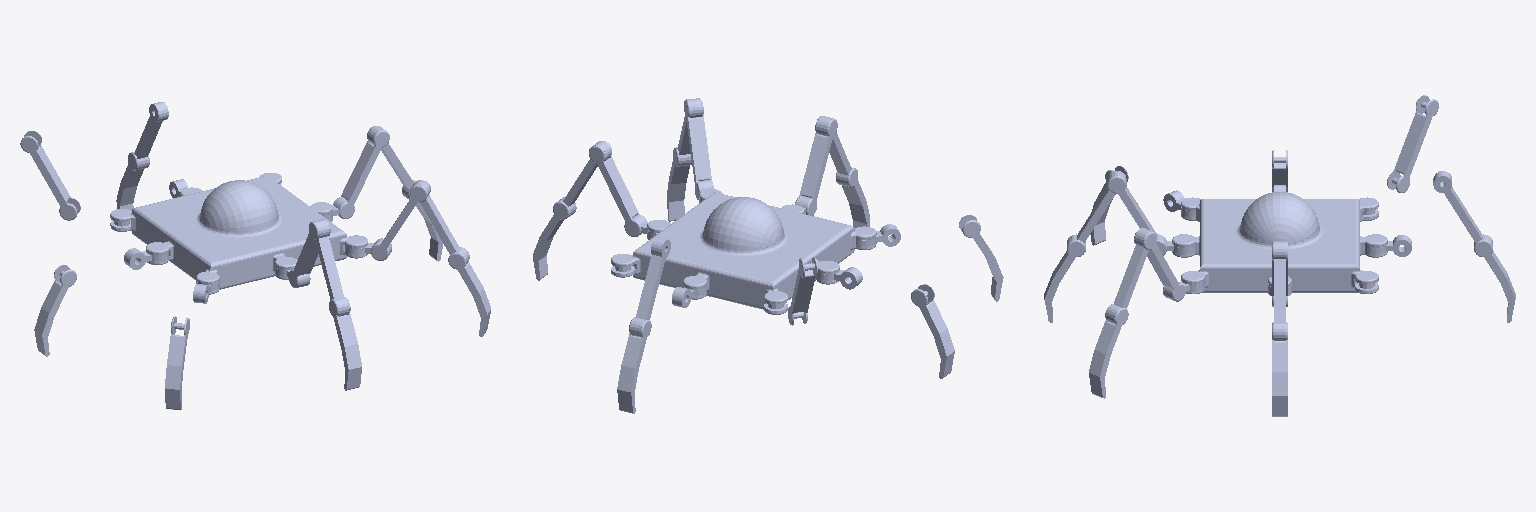
--- What the picture shows (computed from the rendered views, not written in the file) ---
The picture shows the robot from 3 angles, left to right: view 1: azimuth 30°, elevation 25°; view 2: azimuth 150°, elevation 25°; view 3: azimuth 270°, elevation 25°; orthographic projection.
Model SpiderBot_8Legs with 33 links and 32 joints (32 revolute), rooted at body, posed all joints at 0.
Visible links, largest first — view 1: body, link_L5_J2, link_L3_J4, link_L4_J4, link_L2_J4, link_L8_J2, link_L2_J3, link_L1_J4, link_L6_J3, link_L1_J2, link_L1_J3, link_L2_J2 (+2 smaller); view 2: body, link_L4_J4, link_L6_J4, link_L8_J2, link_L2_J2, link_L6_J3, link_L1_J2, link_L5_J2, link_L1_J4, link_L8_J4, link_L3_J4, link_L2_J4 (+5 smaller); view 3: body, link_L5_J2, link_L1_J4, link_L8_J4, link_L1_J3, link_L8_J3, link_L1_J2, link_L6_J3, link_L2_J4, link_L6_J4, link_L2_J2, link_L2_J3 (+2 smaller).
Link boxes in pixels (bbox=[...]): body: bbox=[110, 173, 367, 294]; link_L5_J2: bbox=[20, 131, 80, 220]; link_L3_J4: bbox=[165, 316, 189, 409]; link_L4_J4: bbox=[34, 265, 76, 356]; link_L2_J4: bbox=[329, 297, 361, 390]; link_L8_J2: bbox=[333, 126, 389, 218]; link_L2_J3: bbox=[313, 219, 348, 316]; link_L1_J4: bbox=[448, 247, 490, 336]; link_L6_J3: bbox=[133, 102, 168, 169]; link_L1_J2: bbox=[371, 180, 430, 260]; link_L1_J3: bbox=[411, 180, 469, 263]; link_L2_J2: bbox=[289, 219, 330, 287]; body: bbox=[611, 189, 876, 314]; link_L4_J4: bbox=[911, 284, 954, 378]; link_L6_J4: bbox=[617, 317, 651, 413]; link_L8_J2: bbox=[589, 141, 647, 236]; link_L2_J2: bbox=[795, 116, 837, 215]; link_L6_J3: bbox=[630, 237, 670, 337]; link_L1_J2: bbox=[684, 98, 713, 199]; link_L5_J2: bbox=[788, 257, 817, 325]; link_L1_J4: bbox=[667, 148, 691, 221]; link_L8_J4: bbox=[533, 202, 576, 280]; link_L3_J4: bbox=[959, 215, 1003, 301]; link_L2_J4: bbox=[836, 168, 869, 227]; body: bbox=[1172, 192, 1387, 295]; link_L5_J2: bbox=[1387, 95, 1438, 192]; link_L1_J4: bbox=[1089, 304, 1128, 398]; link_L8_J4: bbox=[1272, 322, 1287, 416]; link_L1_J3: bbox=[1106, 228, 1152, 323]; link_L8_J3: bbox=[1274, 241, 1285, 340]; link_L1_J2: bbox=[1134, 228, 1185, 301]; link_L6_J3: bbox=[1433, 171, 1492, 245]; link_L2_J4: bbox=[1044, 234, 1085, 322]; link_L6_J4: bbox=[1474, 234, 1515, 322]; link_L2_J2: bbox=[1108, 171, 1166, 255]; link_L2_J3: bbox=[1067, 171, 1126, 245].
Size in the robot's own frame: 0.5897 by 0.5897 by 0.2139 metres.
Meshes: 33 distinct files referenced, 21 mesh visuals loaded (21 binary STL); not drawn: 12 (reference not matched to a file when rendering).

URDF robot description (SpiderBot_8Legs):
<?xml version="1.0" encoding="utf-8"?>

<robot
  name="SpiderBot_8Legs">
  <link
    name="body">
    <inertial>
      <origin
        xyz="-1.6455E-06 -2.7132E-06 0.13522"
        rpy="0 0 0" />
      <mass
        value="1.9509" />
      <inertia
        ixx="0.0068935"
        ixy="-1.5477E-07"
        ixz="-1.6748E-08"
        iyy="0.0068934"
        iyz="-2.768E-08"
        izz="0.012599" />
    </inertial>
    <visual>
      <origin
        xyz="0 0 0"
        rpy="0 0 0" />
      <geometry>
        <mesh
          filename="package://SpiderBot_8Legs/meshes/body.STL" />
      </geometry>
      <material
        name="">
        <color
          rgba="0.79216 0.81961 0.93333 1" />
      </material>
    </visual>
    <collision>
      <origin
        xyz="0 0 0"
        rpy="0 0 0" />
      <geometry>
        <mesh
          filename="package://SpiderBot_8Legs/meshes/body.STL" />
      </geometry>
    </collision>
  </link>
  <link
    name="link_L1_J1">
    <inertial>
      <origin
        xyz="0.0208533170560279 5.55111512312578E-17 -0.0120000000000001"
        rpy="0 0 0" />
      <mass
        value="0.00957341037321664" />
      <inertia
        ixx="6.35237498388445E-07"
        ixy="1.48230765769503E-21"
        ixz="1.62191206973846E-20"
        iyy="2.95388816018321E-06"
        iyz="-8.55691343721213E-22"
        izz="3.07273769122766E-06" />
    </inertial>
    <visual>
      <origin
        xyz="0 0 0"
        rpy="0 0 0" />
      <geometry>
        <mesh
          filename="package://SpiderBot_8Legs/meshes/link_L1_J1.STL" />
      </geometry>
      <material
        name="">
        <color
          rgba="0.792156862745098 0.819607843137255 0.933333333333333 1" />
      </material>
    </visual>
    <collision>
      <origin
        xyz="0 0 0"
        rpy="0 0 0" />
      <geometry>
        <mesh
          filename="package://SpiderBot_8Legs/meshes/link_L1_J1.STL" />
      </geometry>
    </collision>
  </link>
  <joint
    name="L1_J1"
    type="revolute">
    <origin
      xyz="0.108832033144844 -0.108832033144843 0.118000000000001"
      rpy="3.14159265358978 0 -0.785398163397437" />
    <parent
      link="body" />
    <child
      link="link_L1_J1" />
    <axis
      xyz="0 0 1" />
    <limit
      lower="0"
      upper="0"
      effort="0"
      velocity="0" />
  </joint>
  <link
    name="link_L1_J2">
    <inertial>
      <origin
        xyz="1.2490009027033E-16 -9.71445146547012E-17 0.0509087121146357"
        rpy="0 0 0" />
      <mass
        value="0.0214270498659543" />
      <inertia
        ixx="2.34021439622059E-05"
        ixy="1.6940658945086E-21"
        ixz="-6.64126770206575E-20"
        iyy="2.39989247736348E-05"
        iyz="5.4924792673521E-20"
        izz="1.16162974067388E-06" />
    </inertial>
    <visual>
      <origin
        xyz="0 0 0"
        rpy="0 0 0" />
      <geometry>
        <mesh
          filename="package://SpiderBot_8Legs/meshes/link_L1_J2.STL" />
      </geometry>
      <material
        name="">
        <color
          rgba="0.792156862745098 0.819607843137255 0.933333333333333 1" />
      </material>
    </visual>
    <collision>
      <origin
        xyz="0 0 0"
        rpy="0 0 0" />
      <geometry>
        <mesh
          filename="package://SpiderBot_8Legs/meshes/link_L1_J2.STL" />
      </geometry>
    </collision>
  </link>
  <joint
    name="L1_J2"
    type="revolute">
    <origin
      xyz="0.0329903810567685 0 -0.0119999999999972"
      rpy="-2.6179938779915 0 -1.5707963267949" />
    <parent
      link="link_L1_J1" />
    <child
      link="link_L1_J2" />
    <axis
      xyz="1 0 0" />
    <limit
      lower="0"
      upper="0"
      effort="0"
      velocity="0" />
  </joint>
  <link
    name="link_L1_J3">
    <inertial>
      <origin
        xyz="-0.0509087121146357 5.55111512312578E-17 -1.80411241501588E-16"
        rpy="0 0 0" />
      <mass
        value="0.0238433927437446" />
      <inertia
        ixx="1.0284985609508E-06"
        ixy="3.67400540871553E-20"
        ixz="-4.2960452293554E-20"
        iyy="3.82502554199004E-05"
        iyz="3.3881317890172E-21"
        izz="3.83846267529608E-05" />
    </inertial>
    <visual>
      <origin
        xyz="0 0 0"
        rpy="0 0 0" />
      <geometry>
        <mesh
          filename="package://SpiderBot_8Legs/meshes/link_L1_J3.STL" />
      </geometry>
      <material
        name="">
        <color
          rgba="0.792156862745098 0.819607843137255 0.933333333333333 1" />
      </material>
    </visual>
    <collision>
      <origin
        xyz="0 0 0"
        rpy="0 0 0" />
      <geometry>
        <mesh
          filename="package://SpiderBot_8Legs/meshes/link_L1_J3.STL" />
      </geometry>
    </collision>
  </link>
  <joint
    name="L1_J3"
    type="revolute">
    <origin
      xyz="0 0 0.101817424229271"
      rpy="1.5707963267949 -0.523598775598305 1.57079632679489" />
    <parent
      link="link_L1_J2" />
    <child
      link="link_L1_J3" />
    <axis
      xyz="0 0 1" />
    <limit
      lower="0"
      upper="0"
      effort="0"
      velocity="0" />
  </joint>
  <link
    name="link_L1_J4">
    <inertial>
      <origin
        xyz="-2.43606107508398E-10 -0.00336940912784062 -0.0483315670397481"
        rpy="0 0 0" />
      <mass
        value="0.0205677845340441" />
      <inertia
        ixx="2.06704743841636E-05"
        ixy="2.0589781913943E-14"
        ixz="1.55720656087906E-13"
        iyy="2.05646985832854E-05"
        iyz="-2.80021798240062E-06"
        izz="1.64193171564564E-06" />
    </inertial>
    <visual>
      <origin
        xyz="0 0 0"
        rpy="0 0 0" />
      <geometry>
        <mesh
          filename="package://SpiderBot_8Legs/meshes/link_L1_J4.STL" />
      </geometry>
      <material
        name="">
        <color
          rgba="0.792156862745098 0.819607843137255 0.933333333333333 1" />
      </material>
    </visual>
    <collision>
      <origin
        xyz="0 0 0"
        rpy="0 0 0" />
      <geometry>
        <mesh
          filename="package://SpiderBot_8Legs/meshes/link_L1_J4.STL" />
      </geometry>
    </collision>
  </link>
  <joint
    name="L1_J4"
    type="revolute">
    <origin
      xyz="-0.101817424229271 0 0"
      rpy="0 1.57079630572147 0" />
    <parent
      link="link_L1_J3" />
    <child
      link="link_L1_J4" />
    <axis
      xyz="1 0 0" />
    <limit
      lower="0"
      upper="0"
      effort="0"
      velocity="0" />
  </joint>
  <link
    name="link_L2_J1">
    <inertial>
      <origin
        xyz="0.0208533170560278 1.39608917830608E-15 -0.0120000000000003"
        rpy="0 0 0" />
      <mass
        value="0.00957341037321663" />
      <inertia
        ixx="6.35237498388445E-07"
        ixy="8.77009254019188E-20"
        ixz="1.82209679161877E-20"
        iyy="2.95388816018321E-06"
        iyz="8.18836950869645E-22"
        izz="3.07273769122765E-06" />
    </inertial>
    <visual>
      <origin
        xyz="0 0 0"
        rpy="0 0 0" />
      <geometry>
        <mesh
          filename="package://SpiderBot_8Legs/meshes/link_L2_J1.STL" />
      </geometry>
      <material
        name="">
        <color
          rgba="0.792156862745098 0.819607843137255 0.933333333333333 1" />
      </material>
    </visual>
    <collision>
      <origin
        xyz="0 0 0"
        rpy="0 0 0" />
      <geometry>
        <mesh
          filename="package://SpiderBot_8Legs/meshes/link_L2_J1.STL" />
      </geometry>
    </collision>
  </link>
  <joint
    name="L2_J1"
    type="revolute">
    <origin
      xyz="0 -0.119999999999998 0.118000000000001"
      rpy="-3.14159265358979 0 -1.5707963267949" />
    <parent
      link="body" />
    <child
      link="link_L2_J1" />
    <axis
      xyz="0 0 1" />
    <limit
      lower="0"
      upper="0"
      effort="0"
      velocity="0" />
  </joint>
  <link
    name="link_L2_J2">
    <inertial>
      <origin
        xyz="1.85556077463149E-16 1.52655665885959E-16 0.0509087121146356"
        rpy="0 0 0" />
      <mass
        value="0.0214270498659543" />
      <inertia
        ixx="2.34021439622059E-05"
        ixy="-1.90905415296481E-20"
        ixz="-4.90617417578581E-19"
        iyy="2.39989247736348E-05"
        iyz="-3.03343674235446E-20"
        izz="1.16162974067388E-06" />
    </inertial>
    <visual>
      <origin
        xyz="0 0 0"
        rpy="0 0 0" />
      <geometry>
        <mesh
          filename="package://SpiderBot_8Legs/meshes/link_L2_J2.STL" />
      </geometry>
      <material
        name="">
        <color
          rgba="0.792156862745098 0.819607843137255 0.933333333333333 1" />
      </material>
    </visual>
    <collision>
      <origin
        xyz="0 0 0"
        rpy="0 0 0" />
      <geometry>
        <mesh
          filename="package://SpiderBot_8Legs/meshes/link_L2_J2.STL" />
      </geometry>
    </collision>
  </link>
  <joint
    name="L2_J2"
    type="revolute">
    <origin
      xyz="0.0329903810567693 0 -0.0119999999999971"
      rpy="-2.61799387799148 0 -1.5707963267949" />
    <parent
      link="link_L2_J1" />
    <child
      link="link_L2_J2" />
    <axis
      xyz="1 0 0" />
    <limit
      lower="0"
      upper="0"
      effort="0"
      velocity="0" />
  </joint>
  <link
    name="link_L2_J3">
    <inertial>
      <origin
        xyz="-0.0509087121146357 1.11022302462516E-16 1.24722336855482E-15"
        rpy="0 0 0" />
      <mass
        value="0.0238433927437446" />
      <inertia
        ixx="1.02849856095079E-06"
        ixy="3.99693671985623E-20"
        ixz="2.22812698519559E-21"
        iyy="3.82502554199004E-05"
        iyz="-3.52278231476089E-22"
        izz="3.83846267529608E-05" />
    </inertial>
    <visual>
      <origin
        xyz="0 0 0"
        rpy="0 0 0" />
      <geometry>
        <mesh
          filename="package://SpiderBot_8Legs/meshes/link_L2_J3.STL" />
      </geometry>
      <material
        name="">
        <color
          rgba="0.792156862745098 0.819607843137255 0.933333333333333 1" />
      </material>
    </visual>
    <collision>
      <origin
        xyz="0 0 0"
        rpy="0 0 0" />
      <geometry>
        <mesh
          filename="package://SpiderBot_8Legs/meshes/link_L2_J3.STL" />
      </geometry>
    </collision>
  </link>
  <joint
    name="L2_J3"
    type="revolute">
    <origin
      xyz="0 0 0.101817424229271"
      rpy="1.57079632679492 -0.5235987755983 1.57079632679491" />
    <parent
      link="link_L2_J2" />
    <child
      link="link_L2_J3" />
    <axis
      xyz="0 0 1" />
    <limit
      lower="0"
      upper="0"
      effort="0"
      velocity="0" />
  </joint>
  <link
    name="link_L2_J4">
    <inertial>
      <origin
        xyz="-2.5622596243973E-10 -0.00336940912355477 -0.0483315670388598"
        rpy="0 0 0" />
      <mass
        value="0.0205677845321001" />
      <inertia
        ixx="2.06704743858935E-05"
        ixy="2.0394845510423E-14"
        ixz="1.6409379487464E-13"
        iyy="2.05646985850489E-05"
        iyz="-2.80021798643706E-06"
        izz="1.64193171548092E-06" />
    </inertial>
    <visual>
      <origin
        xyz="0 0 0"
        rpy="0 0 0" />
      <geometry>
        <mesh
          filename="package://SpiderBot_8Legs/meshes/link_L2_J4.STL" />
      </geometry>
      <material
        name="">
        <color
          rgba="0.792156862745098 0.819607843137255 0.933333333333333 1" />
      </material>
    </visual>
    <collision>
      <origin
        xyz="0 0 0"
        rpy="0 0 0" />
      <geometry>
        <mesh
          filename="package://SpiderBot_8Legs/meshes/link_L2_J4.STL" />
      </geometry>
    </collision>
  </link>
  <joint
    name="L2_J4"
    type="revolute">
    <origin
      xyz="-0.101817424229271 0 0"
      rpy="0 1.5707963267949 0" />
    <parent
      link="link_L2_J3" />
    <child
      link="link_L2_J4" />
    <axis
      xyz="1 0 0" />
    <limit
      lower="0"
      upper="0"
      effort="0"
      velocity="0" />
  </joint>
  <link
    name="link_L3_J1">
    <inertial>
      <origin
        xyz="0.0208533170560279 -1.38777878078145E-17 -0.0120000000000004"
        rpy="0 0 0" />
      <mass
        value="0.00957341037321663" />
      <inertia
        ixx="6.35237498388445E-07"
        ixy="3.70576914423756E-22"
        ixz="-6.69667750469574E-22"
        iyy="2.95388816018321E-06"
        iyz="-4.36347195670013E-23"
        izz="3.07273769122765E-06" />
    </inertial>
    <visual>
      <origin
        xyz="0 0 0"
        rpy="0 0 0" />
      <geometry>
        <mesh
          filename="package://SpiderBot_8Legs/meshes/link_L3_J1.STL" />
      </geometry>
      <material
        name="">
        <color
          rgba="0.792156862745098 0.819607843137255 0.933333333333333 1" />
      </material>
    </visual>
    <collision>
      <origin
        xyz="0 0 0"
        rpy="0 0 0" />
      <geometry>
        <mesh
          filename="package://SpiderBot_8Legs/meshes/link_L3_J1.STL" />
      </geometry>
    </collision>
  </link>
  <joint
    name="L3_J1"
    type="revolute">
    <origin
      xyz="-0.108832033144843 -0.108832033144843 0.118000000000001"
      rpy="3.14159265358979 0 -2.35619449019234" />
    <parent
      link="body" />
    <child
      link="link_L3_J1" />
    <axis
      xyz="0 0 1" />
    <limit
      lower="0"
      upper="0"
      effort="0"
      velocity="0" />
  </joint>
  <link
    name="link_L3_J2">
    <inertial>
      <origin
        xyz="1.80411241501588E-16 2.63677968348475E-16 0.0509087121146358"
        rpy="0 0 0" />
      <mass
        value="0.0214270498659543" />
      <inertia
        ixx="2.34021439622059E-05"
        ixy="1.6940658945086E-21"
        ixz="-8.99707808661677E-20"
        iyy="2.39989247736348E-05"
        iyz="-1.16784667602687E-19"
        izz="1.16162974067388E-06" />
    </inertial>
    <visual>
      <origin
        xyz="0 0 0"
        rpy="0 0 0" />
      <geometry>
        <mesh
          filename="package://SpiderBot_8Legs/meshes/link_L3_J2.STL" />
      </geometry>
      <material
        name="">
        <color
          rgba="0.792156862745098 0.819607843137255 0.933333333333333 1" />
      </material>
    </visual>
    <collision>
      <origin
        xyz="0 0 0"
        rpy="0 0 0" />
      <geometry>
        <mesh
          filename="package://SpiderBot_8Legs/meshes/link_L3_J2.STL" />
      </geometry>
    </collision>
  </link>
  <joint
    name="L3_J2"
    type="revolute">
    <origin
      xyz="0.0329903810567658 0 -0.0120000000000016"
      rpy="-2.61799387799149 0 -1.5707963267949" />
    <parent
      link="link_L3_J1" />
    <child
      link="link_L3_J2" />
    <axis
      xyz="1 0 0" />
    <limit
      lower="0"
      upper="0"
      effort="0"
      velocity="0" />
  </joint>
  <link
    name="link_L3_J3">
    <inertial>
      <origin
        xyz="-0.0509087121146357 -5.55111512312578E-17 1.38777878078145E-17"
        rpy="0 0 0" />
      <mass
        value="0.0238433927437446" />
      <inertia
        ixx="1.02849856095081E-06"
        ixy="-6.74979379843271E-22"
        ixz="5.8074696446123E-20"
        iyy="3.82502554199004E-05"
        iyz="-3.3881317890172E-21"
        izz="3.83846267529608E-05" />
    </inertial>
    <visual>
      <origin
        xyz="0 0 0"
        rpy="0 0 0" />
      <geometry>
        <mesh
          filename="package://SpiderBot_8Legs/meshes/link_L3_J3.STL" />
      </geometry>
      <material
        name="">
        <color
          rgba="0.792156862745098 0.819607843137255 0.933333333333333 1" />
      </material>
    </visual>
    <collision>
      <origin
        xyz="0 0 0"
        rpy="0 0 0" />
      <geometry>
        <mesh
          filename="package://SpiderBot_8Legs/meshes/link_L3_J3.STL" />
      </geometry>
    </collision>
  </link>
  <joint
    name="L3_J3"
    type="revolute">
    <origin
      xyz="0 0 0.101817424229271"
      rpy="1.5707963267949 -0.523598775598299 1.57079632679489" />
    <parent
      link="link_L3_J2" />
    <child
      link="link_L3_J3" />
    <axis
      xyz="0 0 1" />
    <limit
      lower="0"
      upper="0"
      effort="0"
      velocity="0" />
  </joint>
  <link
    name="link_L3_J4">
    <inertial>
      <origin
        xyz="-2.4360616301955E-10 -0.00336940912784078 -0.0483315670397482"
        rpy="0 0 0" />
      <mass
        value="0.020567784534044" />
      <inertia
        ixx="2.06704743841635E-05"
        ixy="2.05897802198771E-14"
        ixz="1.55720654711478E-13"
        iyy="2.05646985832853E-05"
        iyz="-2.80021798240069E-06"
        izz="1.64193171564566E-06" />
    </inertial>
    <visual>
      <origin
        xyz="0 0 0"
        rpy="0 0 0" />
      <geometry>
        <mesh
          filename="package://SpiderBot_8Legs/meshes/link_L3_J4.STL" />
      </geometry>
      <material
        name="">
        <color
          rgba="0.792156862745098 0.819607843137255 0.933333333333333 1" />
      </material>
    </visual>
    <collision>
      <origin
        xyz="0 0 0"
        rpy="0 0 0" />
      <geometry>
        <mesh
          filename="package://SpiderBot_8Legs/meshes/link_L3_J4.STL" />
      </geometry>
    </collision>
  </link>
  <joint
    name="L3_J4"
    type="revolute">
    <origin
      xyz="-0.101817424229271 0 0"
      rpy="0 1.5707963267949 0" />
    <parent
      link="link_L3_J3" />
    <child
      link="link_L3_J4" />
    <axis
      xyz="1 0 0" />
    <limit
      lower="0"
      upper="0"
      effort="0"
      velocity="0" />
  </joint>
  <link
    name="link_L4_J1">
    <inertial>
      <origin
        xyz="0.0208533170560279 2.58746451344178E-15 -0.0120000000000006"
        rpy="0 0 0" />
      <mass
        value="0.00957341037321663" />
      <inertia
        ixx="6.35237498388445E-07"
        ixy="4.83735718269588E-20"
        ixz="-7.61119860771082E-22"
        iyy="2.95388816018321E-06"
        iyz="-7.75333643384985E-23"
        izz="3.07273769122765E-06" />
    </inertial>
    <visual>
      <origin
        xyz="0 0 0"
        rpy="0 0 0" />
      <geometry>
        <mesh
          filename="package://SpiderBot_8Legs/meshes/link_L4_J1.STL" />
      </geometry>
      <material
        name="">
        <color
          rgba="0.792156862745098 0.819607843137255 0.933333333333333 1" />
      </material>
    </visual>
    <collision>
      <origin
        xyz="0 0 0"
        rpy="0 0 0" />
      <geometry>
        <mesh
          filename="package://SpiderBot_8Legs/meshes/link_L4_J1.STL" />
      </geometry>
    </collision>
  </link>
  <joint
    name="L4_J1"
    type="revolute">
    <origin
      xyz="-0.12 0 0.118"
      rpy="3.14159265358979 0 -3.14159265358979" />
    <parent
      link="body" />
    <child
      link="link_L4_J1" />
    <axis
      xyz="0 0 1" />
    <limit
      lower="0"
      upper="0"
      effort="0"
      velocity="0" />
  </joint>
  <link
    name="link_L4_J2">
    <inertial>
      <origin
        xyz="-1.61680449544841E-15 4.16333634234434E-17 -0.0509087121146357"
        rpy="0 0 0" />
      <mass
        value="0.0214270498659543" />
      <inertia
        ixx="2.34021439622059E-05"
        ixy="9.24704574709577E-21"
        ixz="2.99752773227615E-19"
        iyy="2.39989247736348E-05"
        iyz="3.86458782184775E-21"
        izz="1.16162974067388E-06" />
    </inertial>
    <visual>
      <origin
        xyz="0 0 0"
        rpy="0 0 0" />
      <geometry>
        <mesh
          filename="package://SpiderBot_8Legs/meshes/link_L4_J2.STL" />
      </geometry>
      <material
        name="">
        <color
          rgba="0.792156862745098 0.819607843137255 0.933333333333333 1" />
      </material>
    </visual>
    <collision>
      <origin
        xyz="0 0 0"
        rpy="0 0 0" />
      <geometry>
        <mesh
          filename="package://SpiderBot_8Legs/meshes/link_L4_J2.STL" />
      </geometry>
    </collision>
  </link>
  <joint
    name="L4_J2"
    type="revolute">
    <origin
      xyz="0.0329903810567663 0 -0.0120000000000009"
      rpy="0.523598775598319 0 -1.5707963267949" />
    <parent
      link="link_L4_J1" />
    <child
      link="link_L4_J2" />
    <axis
      xyz="1 0 0" />
    <limit
      lower="0"
      upper="0"
      effort="0"
      velocity="0" />
  </joint>
  <link
    name="link_L4_J3">
    <inertial>
      <origin
        xyz="-0.0509087121146357 0 -7.01622119351565E-16"
        rpy="0 0 0" />
      <mass
        value="0.0238433927437446" />
      <inertia
        ixx="1.0284985609508E-06"
        ixy="-3.57342024622908E-21"
        ixz="2.66523269546072E-19"
        iyy="3.82502554199004E-05"
        iyz="-2.6725429713548E-21"
        izz="3.83846267529607E-05" />
    </inertial>
    <visual>
      <origin
        xyz="0 0 0"
        rpy="0 0 0" />
      <geometry>
        <mesh
          filename="package://SpiderBot_8Legs/meshes/link_L4_J3.STL" />
      </geometry>
      <material
        name="">
        <color
          rgba="0.792156862745098 0.819607843137255 0.933333333333333 1" />
      </material>
    </visual>
    <collision>
      <origin
        xyz="0 0 0"
        rpy="0 0 0" />
      <geometry>
        <mesh
          filename="package://SpiderBot_8Legs/meshes/link_L4_J3.STL" />
      </geometry>
    </collision>
  </link>
  <joint
    name="L4_J3"
    type="revolute">
    <origin
      xyz="0 0 -0.101817424229271"
      rpy="-1.5707963267949 0.5235987755983 -1.5707963267949" />
    <parent
      link="link_L4_J2" />
    <child
      link="link_L4_J3" />
    <axis
      xyz="0 0 1" />
    <limit
      lower="0"
      upper="0"
      effort="0"
      velocity="0" />
  </joint>
  <link
    name="link_L4_J4">
    <inertial>
      <origin
        xyz="-2.56222348522828E-10 -0.0401716602985852 0.0270837774161724"
        rpy="0 0 0" />
      <mass
        value="0.0205677845321001" />
      <inertia
        ixx="2.06704743858935E-05"
        ixy="1.31912105750755E-13"
        ixz="-9.97094644616563E-14"
        iyy="8.797683345262E-06"
        iyz="9.59390740268683E-06"
        izz="1.34089469552678E-05" />
    </inertial>
    <visual>
      <origin
        xyz="0 0 0"
        rpy="0 0 0" />
      <geometry>
        <mesh
          filename="package://SpiderBot_8Legs/meshes/link_L4_J4.STL" />
      </geometry>
      <material
        name="">
        <color
          rgba="0.792156862745098 0.819607843137255 0.933333333333333 1" />
      </material>
    </visual>
    <collision>
      <origin
        xyz="0 0 0"
        rpy="0 0 0" />
      <geometry>
        <mesh
          filename="package://SpiderBot_8Legs/meshes/link_L4_J4.STL" />
      </geometry>
    </collision>
  </link>
  <joint
    name="L4_J4"
    type="revolute">
    <origin
      xyz="-0.101817424229271 0 0"
      rpy="2.09439510239322 1.5707963267949 0" />
    <parent
      link="link_L4_J3" />
    <child
      link="link_L4_J4" />
    <axis
      xyz="1 0 0" />
    <limit
      lower="0"
      upper="0"
      effort="0"
      velocity="0" />
  </joint>
  <link
    name="link_L5_J1">
    <inertial>
      <origin
        xyz="0.0208533170560279 -2.77555756156289E-17 -0.0120000000000006"
        rpy="0 0 0" />
      <mass
        value="0.00957341037321663" />
      <inertia
        ixx="6.35237498388445E-07"
        ixy="1.27054942088145E-21"
        ixz="-7.47380327368677E-22"
        iyy="2.95388816018321E-06"
        iyz="8.75808333581437E-23"
        izz="3.07273769122766E-06" />
    </inertial>
    <visual>
      <origin
        xyz="0 0 0"
        rpy="0 0 0" />
      <geometry>
        <mesh
          filename="package://SpiderBot_8Legs/meshes/link_L5_J1.STL" />
      </geometry>
      <material
        name="">
        <color
          rgba="0.792156862745098 0.819607843137255 0.933333333333333 1" />
      </material>
    </visual>
    <collision>
      <origin
        xyz="0 0 0"
        rpy="0 0 0" />
      <geometry>
        <mesh
          filename="package://SpiderBot_8Legs/meshes/link_L5_J1.STL" />
      </geometry>
    </collision>
  </link>
  <joint
    name="L5_J1"
    type="revolute">
    <origin
      xyz="-0.108832033144842 0.108832033144844 0.118"
      rpy="3.14159265358979 0 2.35619449019236" />
    <parent
      link="body" />
    <child
      link="link_L5_J1" />
    <axis
      xyz="0 0 1" />
    <limit
      lower="0"
      upper="0"
      effort="0"
      velocity="0" />
  </joint>
  <link
    name="link_L5_J2">
    <inertial>
      <origin
        xyz="4.16333634234434E-17 -4.16333634234434E-17 0.0509087121146357"
        rpy="0 0 0" />
      <mass
        value="0.0214270498659543" />
      <inertia
        ixx="2.34021439622059E-05"
        ixy="3.3881317890172E-21"
        ixz="-5.00278834472071E-21"
        iyy="2.39989247736348E-05"
        iyz="1.27054942088145E-21"
        izz="1.16162974067387E-06" />
    </inertial>
    <visual>
      <origin
        xyz="0 0 0"
        rpy="0 0 0" />
      <geometry>
        <mesh
          filename="package://SpiderBot_8Legs/meshes/link_L5_J2.STL" />
      </geometry>
      <material
        name="">
        <color
          rgba="0.792156862745098 0.819607843137255 0.933333333333333 1" />
      </material>
    </visual>
    <collision>
      <origin
        xyz="0 0 0"
        rpy="0 0 0" />
      <geometry>
        <mesh
          filename="package://SpiderBot_8Legs/meshes/link_L5_J2.STL" />
      </geometry>
    </collision>
  </link>
  <joint
    name="L5_J2"
    type="revolute">
    <origin
      xyz="0.0329903810567659 0 -0.0120000000000015"
      rpy="-2.61799387799148 0 -1.5707963267949" />
    <parent
      link="link_L5_J1" />
    <child
      link="link_L5_J2" />
    <axis
      xyz="1 0 0" />
    <limit
      lower="0"
      upper="0"
      effort="0"
      velocity="0" />
  </joint>
  <link
    name="link_L5_J3">
    <inertial>
      <origin
        xyz="-0.0509087121146358 -5.55111512312578E-17 6.93889390390723E-17"
        rpy="0 0 0" />
      <mass
        value="0.0238433927437446" />
      <inertia
        ixx="1.02849856095081E-06"
        ixy="-9.66146955461936E-21"
        ixz="1.41878018665095E-20"
        iyy="3.82502554199004E-05"
        iyz="-3.3881317890172E-21"
        izz="3.83846267529608E-05" />
    </inertial>
    <visual>
      <origin
        xyz="0 0 0"
        rpy="0 0 0" />
      <geometry>
        <mesh
          filename="package://SpiderBot_8Legs/meshes/link_L5_J3.STL" />
      </geometry>
      <material
        name="">
        <color
          rgba="0.792156862745098 0.819607843137255 0.933333333333333 1" />
      </material>
    </visual>
    <collision>
      <origin
        xyz="0 0 0"
        rpy="0 0 0" />
      <geometry>
        <mesh
          filename="package://SpiderBot_8Legs/meshes/link_L5_J3.STL" />
      </geometry>
    </collision>
  </link>
  <joint
    name="L5_J3"
    type="revolute">
    <origin
      xyz="0 0 0.101817424229271"
      rpy="1.5707963267949 -0.523598775598301 1.57079632679489" />
    <parent
      link="link_L5_J2" />
    <child
      link="link_L5_J3" />
    <axis
      xyz="0 0 1" />
    <limit
      lower="0"
      upper="0"
      effort="0"
      velocity="0" />
  </joint>
  <link
    name="link_L5_J4">
    <inertial>
      <origin
        xyz="-2.43605996486096E-10 -0.00336940912784089 -0.0483315670397481"
        rpy="0 0 0" />
      <mass
        value="0.0205677845340441" />
      <inertia
        ixx="2.06704743841636E-05"
        ixy="2.05897903842725E-14"
        ixz="1.55720716756641E-13"
        iyy="2.05646985832853E-05"
        iyz="-2.80021798240075E-06"
        izz="1.64193171564568E-06" />
    </inertial>
    <visual>
      <origin
        xyz="0 0 0"
        rpy="0 0 0" />
      <geometry>
        <mesh
          filename="package://SpiderBot_8Legs/meshes/link_L5_J4.STL" />
      </geometry>
      <material
        name="">
        <color
          rgba="0.792156862745098 0.819607843137255 0.933333333333333 1" />
      </material>
    </visual>
    <collision>
      <origin
        xyz="0 0 0"
        rpy="0 0 0" />
      <geometry>
        <mesh
          filename="package://SpiderBot_8Legs/meshes/link_L5_J4.STL" />
      </geometry>
    </collision>
  </link>
  <joint
    name="L5_J4"
    type="revolute">
    <origin
      xyz="-0.101817424229271 0 0"
      rpy="0 1.5707963267949 0" />
    <parent
      link="link_L5_J3" />
    <child
      link="link_L5_J4" />
    <axis
      xyz="1 0 0" />
    <limit
      lower="0"
      upper="0"
      effort="0"
      velocity="0" />
  </joint>
  <link
    name="link_L6_J1">
    <inertial>
      <origin
        xyz="0.0208533170560278 -1.41577608159169E-15 -0.0120000000000006"
        rpy="0 0 0" />
      <mass
        value="0.00957341037321665" />
      <inertia
        ixx="6.35237498388446E-07"
        ixy="4.05022838286021E-20"
        ixz="1.77107172923625E-20"
        iyy="2.95388816018322E-06"
        iyz="1.22391639046935E-22"
        izz="3.07273769122766E-06" />
    </inertial>
    <visual>
      <origin
        xyz="0 0 0"
        rpy="0 0 0" />
      <geometry>
        <mesh
          filename="package://SpiderBot_8Legs/meshes/link_L6_J1.STL" />
      </geometry>
      <material
        name="">
        <color
          rgba="0.792156862745098 0.819607843137255 0.933333333333333 1" />
      </material>
    </visual>
    <collision>
      <origin
        xyz="0 0 0"
        rpy="0 0 0" />
      <geometry>
        <mesh
          filename="package://SpiderBot_8Legs/meshes/link_L6_J1.STL" />
      </geometry>
    </collision>
  </link>
  <joint
    name="L6_J1"
    type="revolute">
    <origin
      xyz="0 0.120000000000001 0.118"
      rpy="3.14159265358979 0 1.5707963267949" />
    <parent
      link="body" />
    <child
      link="link_L6_J1" />
    <axis
      xyz="0 0 1" />
    <limit
      lower="0"
      upper="0"
      effort="0"
      velocity="0" />
  </joint>
  <link
    name="link_L6_J2">
    <inertial>
      <origin
        xyz="0.0100000000000021 -0.0225705080756829 0.0777962074884351"
        rpy="0 0 0" />
      <mass
        value="0.0214270498659543" />
      <inertia
        ixx="2.34021439622059E-05"
        ixy="-9.40119986034315E-21"
        ixz="-2.10493938222404E-19"
        iyy="2.39989247736348E-05"
        iyz="2.06464280893236E-21"
        izz="1.16162974067387E-06" />
    </inertial>
    <visual>
      <origin
        xyz="0 0 0"
        rpy="0 0 0" />
      <geometry>
        <mesh
          filename="package://SpiderBot_8Legs/meshes/link_L6_J2.STL" />
      </geometry>
      <material
        name="">
        <color
          rgba="0.792156862745098 0.819607843137255 0.933333333333333 1" />
      </material>
    </visual>
    <collision>
      <origin
        xyz="0 0 0"
        rpy="0 0 0" />
      <geometry>
        <mesh
          filename="package://SpiderBot_8Legs/meshes/link_L6_J2.STL" />
      </geometry>
    </collision>
  </link>
  <joint
    name="L6_J2"
    type="revolute">
    <origin
      xyz="0 0.01 0"
      rpy="-2.61799387799148 0 -1.5707963267949" />
    <parent
      link="link_L6_J1" />
    <child
      link="link_L6_J2" />
    <axis
      xyz="1 0 0" />
    <limit
      lower="0"
      upper="0"
      effort="0"
      velocity="0" />
  </joint>
  <link
    name="link_L6_J3">
    <inertial>
      <origin
        xyz="-0.0509087121146357 5.55111512312578E-17 0.00750000000000004"
        rpy="0 0 0" />
      <mass
        value="0.0238433927437446" />
      <inertia
        ixx="1.0284985609508E-06"
        ixy="-1.85288457211878E-22"
        ixz="-9.73845013888014E-22"
        iyy="3.82502554199004E-05"
        iyz="-1.45519749587943E-22"
        izz="3.83846267529608E-05" />
    </inertial>
    <visual>
      <origin
        xyz="0 0 0"
        rpy="0 0 0" />
      <geometry>
        <mesh
          filename="package://SpiderBot_8Legs/meshes/link_L6_J3.STL" />
      </geometry>
      <material
        name="">
        <color
          rgba="0.792156862745098 0.819607843137255 0.933333333333333 1" />
      </material>
    </visual>
    <collision>
      <origin
        xyz="0 0 0"
        rpy="0 0 0" />
      <geometry>
        <mesh
          filename="package://SpiderBot_8Legs/meshes/link_L6_J3.STL" />
      </geometry>
    </collision>
  </link>
  <joint
    name="L6_J3"
    type="revolute">
    <origin
      xyz="0.00250000000000243 -0.0225705080756833 0.128704919603071"
      rpy="1.57079632679491 -0.523598775598298 1.57079632679491" />
    <parent
      link="link_L6_J2" />
    <child
      link="link_L6_J3" />
    <axis
      xyz="0 0 1" />
    <limit
      lower="0"
      upper="0"
      effort="0"
      velocity="0" />
  </joint>
  <link
    name="link_L6_J4">
    <inertial>
      <origin
        xyz="-0.00750000025622259 -0.00336940912355493 -0.0483315670388597"
        rpy="0 0 0" />
      <mass
        value="0.0205677845321" />
      <inertia
        ixx="2.06704743858935E-05"
        ixy="2.03948818349883E-14"
        ixz="1.64093990121754E-13"
        iyy="2.05646985850488E-05"
        iyz="-2.80021798643706E-06"
        izz="1.64193171548092E-06" />
    </inertial>
    <visual>
      <origin
        xyz="0 0 0"
        rpy="0 0 0" />
      <geometry>
        <mesh
          filename="package://SpiderBot_8Legs/meshes/link_L6_J4.STL" />
      </geometry>
      <material
        name="">
        <color
          rgba="0.792156862745098 0.819607843137255 0.933333333333333 1" />
      </material>
    </visual>
    <collision>
      <origin
        xyz="0 0 0"
        rpy="0 0 0" />
      <geometry>
        <mesh
          filename="package://SpiderBot_8Legs/meshes/link_L6_J4.STL" />
      </geometry>
    </collision>
  </link>
  <joint
    name="L6_J4"
    type="revolute">
    <origin
      xyz="-0.101817424229272 0 0"
      rpy="0 1.5707963267949 0" />
    <parent
      link="link_L6_J3" />
    <child
      link="link_L6_J4" />
    <axis
      xyz="1 0 0" />
    <limit
      lower="0"
      upper="0"
      effort="0"
      velocity="0" />
  </joint>
  <link
    name="link_L7_J1">
    <inertial>
      <origin
        xyz="0.0208533170560278 -9.71445146547012E-17 -0.0120000000000002"
        rpy="0 0 0" />
      <mass
        value="0.00957341037321664" />
      <inertia
        ixx="6.35237498388445E-07"
        ixy="-2.38228016415272E-22"
        ixz="1.61567422050601E-20"
        iyy="2.95388816018321E-06"
        iyz="9.3522541804904E-22"
        izz="3.07273769122766E-06" />
    </inertial>
    <visual>
      <origin
        xyz="0 0 0"
        rpy="0 0 0" />
      <geometry>
        <mesh
          filename="package://SpiderBot_8Legs/meshes/link_L7_J1.STL" />
      </geometry>
      <material
        name="">
        <color
          rgba="0.792156862745098 0.819607843137255 0.933333333333333 1" />
      </material>
    </visual>
    <collision>
      <origin
        xyz="0 0 0"
        rpy="0 0 0" />
      <geometry>
        <mesh
          filename="package://SpiderBot_8Legs/meshes/link_L7_J1.STL" />
      </geometry>
    </collision>
  </link>
  <joint
    name="L7_J1"
    type="revolute">
    <origin
      xyz="0.108832033144843 0.108832033144844 0.118000000000001"
      rpy="-3.14159265358979 0 0.785398163397464" />
    <parent
      link="body" />
    <child
      link="link_L7_J1" />
    <axis
      xyz="0 0 1" />
    <limit
      lower="0"
      upper="0"
      effort="0"
      velocity="0" />
  </joint>
  <link
    name="link_L7_J2">
    <inertial>
      <origin
        xyz="1.38777878078145E-17 -6.28663787693995E-15 0.0509087121146328"
        rpy="0 0 0" />
      <mass
        value="0.0214270498659542" />
      <inertia
        ixx="2.34021439622059E-05"
        ixy="8.470329472543E-22"
        ixz="-1.88994226356116E-20"
        iyy="2.39989247736348E-05"
        iyz="3.35901503145533E-20"
        izz="1.16162974067387E-06" />
    </inertial>
    <visual>
      <origin
        xyz="0 0 0"
        rpy="0 0 0" />
      <geometry>
        <mesh
          filename="package://SpiderBot_8Legs/meshes/link_L7_J2.STL" />
      </geometry>
      <material
        name="">
        <color
          rgba="0.792156862745098 0.819607843137255 0.933333333333333 1" />
      </material>
    </visual>
    <collision>
      <origin
        xyz="0 0 0"
        rpy="0 0 0" />
      <geometry>
        <mesh
          filename="package://SpiderBot_8Legs/meshes/link_L7_J2.STL" />
      </geometry>
    </collision>
  </link>
  <joint
    name="L7_J2"
    type="revolute">
    <origin
      xyz="0.0329903810567665 0 -0.0120000000000004"
      rpy="-2.61799387799149 0 -1.5707963267949" />
    <parent
      link="link_L7_J1" />
    <child
      link="link_L7_J2" />
    <axis
      xyz="1 0 0" />
    <limit
      lower="0"
      upper="0"
      effort="0"
      velocity="0" />
  </joint>
  <link
    name="link_L7_J3">
    <inertial>
      <origin
        xyz="-0.0509087121146358 -5.55111512312578E-17 1.66533453693773E-16"
        rpy="0 0 0" />
      <mass
        value="0.0238433927437446" />
      <inertia
        ixx="1.0284985609508E-06"
        ixy="-5.00543532268088E-20"
        ixz="3.99164276393589E-20"
        iyy="3.82502554199004E-05"
        iyz="-1.6940658945086E-21"
        izz="3.83846267529607E-05" />
    </inertial>
    <visual>
      <origin
        xyz="0 0 0"
        rpy="0 0 0" />
      <geometry>
        <mesh
          filename="package://SpiderBot_8Legs/meshes/link_L7_J3.STL" />
      </geometry>
      <material
        name="">
        <color
          rgba="0.792156862745098 0.819607843137255 0.933333333333333 1" />
      </material>
    </visual>
    <collision>
      <origin
        xyz="0 0 0"
        rpy="0 0 0" />
      <geometry>
        <mesh
          filename="package://SpiderBot_8Legs/meshes/link_L7_J3.STL" />
      </geometry>
    </collision>
  </link>
  <joint
    name="L7_J3"
    type="revolute">
    <origin
      xyz="0 0 0.101817424229268"
      rpy="1.5707963267949 -0.523598775598301 1.5707963267949" />
    <parent
      link="link_L7_J2" />
    <child
      link="link_L7_J3" />
    <axis
      xyz="0 0 1" />
    <limit
      lower="0"
      upper="0"
      effort="0"
      velocity="0" />
  </joint>
  <link
    name="link_L7_J4">
    <inertial>
      <origin
        xyz="-2.4360616301955E-10 -0.00336940912784056 -0.0483315670397482"
        rpy="0 0 0" />
      <mass
        value="0.020567784534044" />
      <inertia
        ixx="2.06704743841635E-05"
        ixy="2.05897853020748E-14"
        ixz="1.55720701404169E-13"
        iyy="2.05646985832853E-05"
        iyz="-2.80021798240061E-06"
        izz="1.64193171564563E-06" />
    </inertial>
    <visual>
      <origin
        xyz="0 0 0"
        rpy="0 0 0" />
      <geometry>
        <mesh
          filename="package://SpiderBot_8Legs/meshes/link_L7_J4.STL" />
      </geometry>
      <material
        name="">
        <color
          rgba="0.792156862745098 0.819607843137255 0.933333333333333 1" />
      </material>
    </visual>
    <collision>
      <origin
        xyz="0 0 0"
        rpy="0 0 0" />
      <geometry>
        <mesh
          filename="package://SpiderBot_8Legs/meshes/link_L7_J4.STL" />
      </geometry>
    </collision>
  </link>
  <joint
    name="L7_J4"
    type="revolute">
    <origin
      xyz="-0.101817424229271 0 0"
      rpy="0 1.5707963267949 0" />
    <parent
      link="link_L7_J3" />
    <child
      link="link_L7_J4" />
    <axis
      xyz="1 0 0" />
    <limit
      lower="0"
      upper="0"
      effort="0"
      velocity="0" />
  </joint>
  <link
    name="link_L8_J1">
    <inertial>
      <origin
        xyz="0.0208533170560278 -1.13000530911832E-15 -0.0120000000000002"
        rpy="0 0 0" />
      <mass
        value="0.00957341037321665" />
      <inertia
        ixx="6.35237498388446E-07"
        ixy="2.00725901037101E-20"
        ixz="2.04194151698339E-20"
        iyy="2.95388816018322E-06"
        iyz="-5.811657690722E-23"
        izz="3.07273769122766E-06" />
    </inertial>
    <visual>
      <origin
        xyz="0 0 0"
        rpy="0 0 0" />
      <geometry>
        <mesh
          filename="package://SpiderBot_8Legs/meshes/link_L8_J1.STL" />
      </geometry>
      <material
        name="">
        <color
          rgba="0.792156862745098 0.819607843137255 0.933333333333333 1" />
      </material>
    </visual>
    <collision>
      <origin
        xyz="0 0 0"
        rpy="0 0 0" />
      <geometry>
        <mesh
          filename="package://SpiderBot_8Legs/meshes/link_L8_J1.STL" />
      </geometry>
    </collision>
  </link>
  <joint
    name="L8_J1"
    type="revolute">
    <origin
      xyz="0.119999999999998 0 0.118000000000001"
      rpy="3.14159265358979 0 0" />
    <parent
      link="body" />
    <child
      link="link_L8_J1" />
    <axis
      xyz="0 0 1" />
    <limit
      lower="0"
      upper="0"
      effort="0"
      velocity="0" />
  </joint>
  <link
    name="link_L8_J2">
    <inertial>
      <origin
        xyz="5.10979657768825E-15 0.0440882379652246 -0.0254543560573129"
        rpy="0 0 0" />
      <mass
        value="0.0214270498659543" />
      <inertia
        ixx="2.34021439622059E-05"
        ixy="-3.22586827164549E-19"
        ixz="2.01825238588603E-19"
        iyy="6.87095349891357E-06"
        iyz="9.88883882613186E-06"
        izz="1.82896010153951E-05" />
    </inertial>
    <visual>
      <origin
        xyz="0 0 0"
        rpy="0 0 0" />
      <geometry>
        <mesh
          filename="package://SpiderBot_8Legs/meshes/link_L8_J2.STL" />
      </geometry>
      <material
        name="">
        <color
          rgba="0.792156862745098 0.819607843137255 0.933333333333333 1" />
      </material>
    </visual>
    <collision>
      <origin
        xyz="0 0 0"
        rpy="0 0 0" />
      <geometry>
        <mesh
          filename="package://SpiderBot_8Legs/meshes/link_L8_J2.STL" />
      </geometry>
    </collision>
  </link>
  <joint
    name="L8_J2"
    type="revolute">
    <origin
      xyz="0.0329903810567663 0 -0.0120000000000003"
      rpy="-0.523598775598312 0 -1.5707963267949" />
    <parent
      link="link_L8_J1" />
    <child
      link="link_L8_J2" />
    <axis
      xyz="1 0 0" />
    <limit
      lower="0"
      upper="0"
      effort="0"
      velocity="0" />
  </joint>
  <link
    name="link_L8_J3">
    <inertial>
      <origin
        xyz="-0.0509087121146357 -5.55111512312578E-17 6.49061880216727E-15"
        rpy="0 0 0" />
      <mass
        value="0.0238433927437446" />
      <inertia
        ixx="1.0284985609508E-06"
        ixy="-7.0462553299712E-20"
        ixz="3.98318809837147E-19"
        iyy="3.82502554199004E-05"
        iyz="-1.13065397155405E-22"
        izz="3.83846267529608E-05" />
    </inertial>
    <visual>
      <origin
        xyz="0 0 0"
        rpy="0 0 0" />
      <geometry>
        <mesh
          filename="package://SpiderBot_8Legs/meshes/link_L8_J3.STL" />
      </geometry>
      <material
        name="">
        <color
          rgba="0.792156862745098 0.819607843137255 0.933333333333333 1" />
      </material>
    </visual>
    <collision>
      <origin
        xyz="0 0 0"
        rpy="0 0 0" />
      <geometry>
        <mesh
          filename="package://SpiderBot_8Legs/meshes/link_L8_J3.STL" />
      </geometry>
    </collision>
  </link>
  <joint
    name="L8_J3"
    type="revolute">
    <origin
      xyz="0 0.0881764759304484 -0.0509087121146295"
      rpy="0 1.5707963267949 0" />
    <parent
      link="link_L8_J2" />
    <child
      link="link_L8_J3" />
    <axis
      xyz="0 0 1" />
    <limit
      lower="0"
      upper="0"
      effort="0"
      velocity="0" />
  </joint>
  <link
    name="link_L8_J4">
    <inertial>
      <origin
        xyz="-2.56229826014434E-10 0.00336940912355471 0.0483315670388599"
        rpy="0 0 0" />
      <mass
        value="0.0205677845321001" />
      <inertia
        ixx="2.06704743858935E-05"
        ixy="-2.03948678721592E-14"
        ixz="-1.64093919566124E-13"
        iyy="2.05646985850489E-05"
        iyz="-2.80021798643706E-06"
        izz="1.64193171548093E-06" />
    </inertial>
    <visual>
      <origin
        xyz="0 0 0"
        rpy="0 0 0" />
      <geometry>
        <mesh
          filename="package://SpiderBot_8Legs/meshes/link_L8_J4.STL" />
      </geometry>
      <material
        name="">
        <color
          rgba="0.792156862745098 0.819607843137255 0.933333333333333 1" />
      </material>
    </visual>
    <collision>
      <origin
        xyz="0 0 0"
        rpy="0 0 0" />
      <geometry>
        <mesh
          filename="package://SpiderBot_8Legs/meshes/link_L8_J4.STL" />
      </geometry>
    </collision>
  </link>
  <joint
    name="L8_J4"
    type="revolute">
    <origin
      xyz="-0.101817424229271 0 0"
      rpy="3.14159265358979 1.5707963267949 0" />
    <parent
      link="link_L8_J3" />
    <child
      link="link_L8_J4" />
    <axis
      xyz="1 0 0" />
    <limit
      lower="0"
      upper="0"
      effort="0"
      velocity="0" />
  </joint>
</robot>
